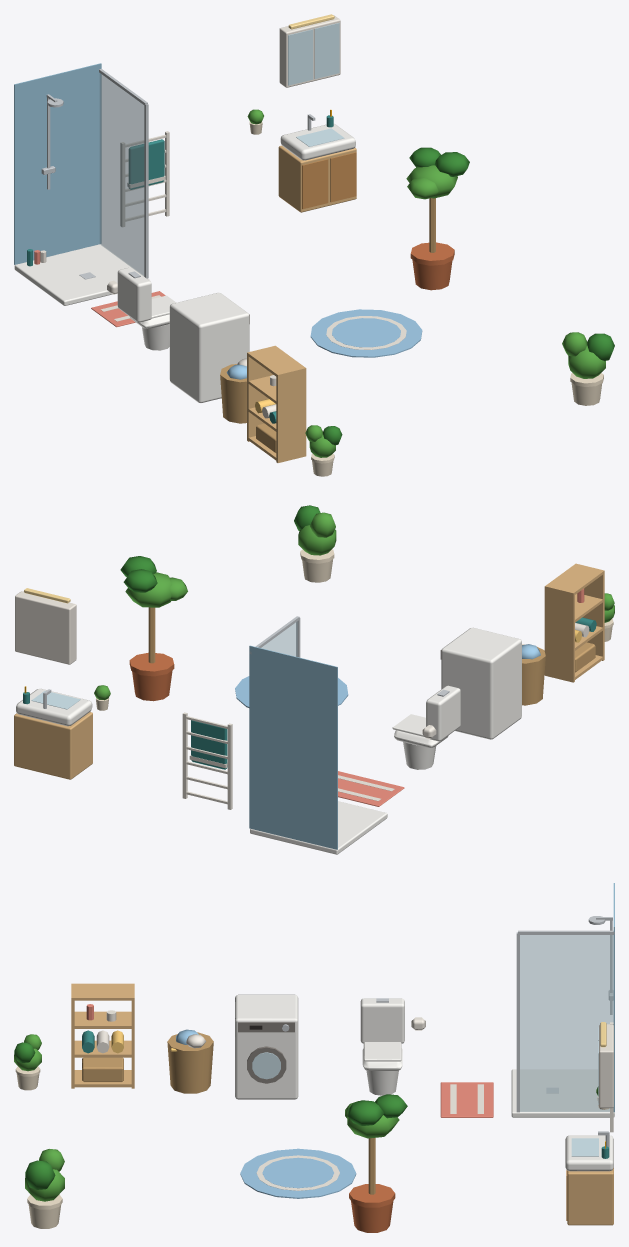
File: einrichtung_bad.glb
3 renders of one model, top to bottom at view 1: azimuth 30°, elevation 25°; view 2: azimuth 150°, elevation 25°; view 3: azimuth 270°, elevation 25°, orthographic. The views are drawn at different scales.
Visible parts, largest first — view 1: einrichtung_bad; view 2: einrichtung_bad; view 3: einrichtung_bad.
Part boxes in pixels (x1,y1,x2,y2): einrichtung_bad: (14,14,614,476); einrichtung_bad: (14,505,614,854); einrichtung_bad: (14,883,614,1232).
Size of the model in its own units: 3.76 by 2 by 5.69.
